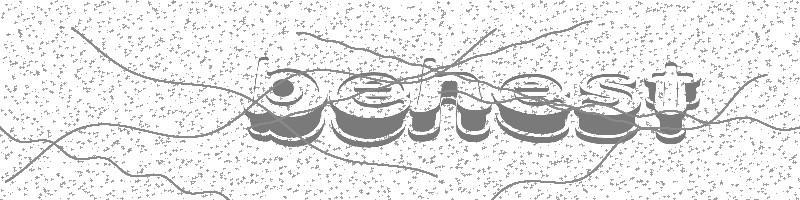b: (245, 57, 328, 147)
e: (328, 72, 409, 147), (494, 73, 570, 144)
h: (410, 57, 492, 144)
s: (572, 73, 642, 145)
t: (643, 60, 702, 145)
